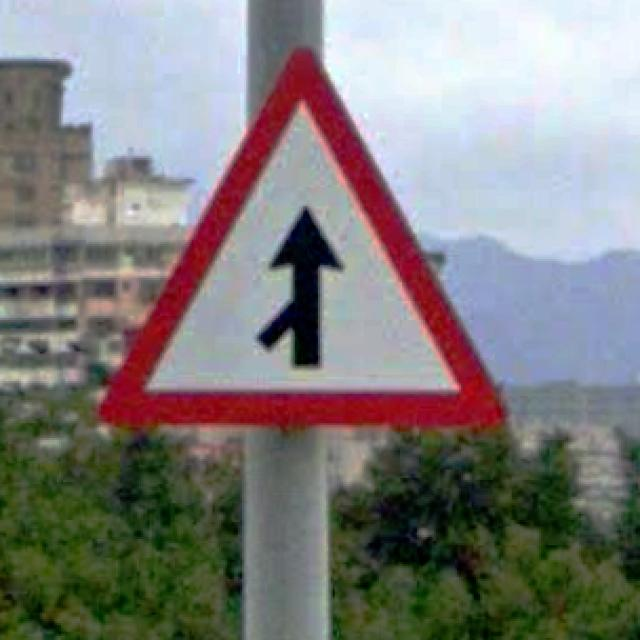leftmerge: (101, 48, 505, 432)
